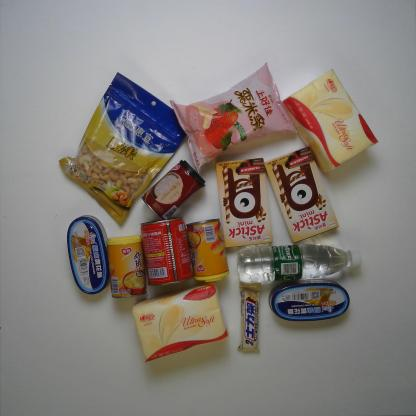Canned Food: (141, 158, 206, 221), (140, 216, 194, 286), (267, 278, 351, 323), (66, 214, 111, 295), (186, 218, 230, 283), (107, 234, 147, 299)
Chocolate: (237, 281, 262, 354)
Dessert: (264, 146, 340, 244), (215, 157, 274, 248)
Dried Fruit: (57, 71, 187, 226)
Drink: (236, 242, 362, 286)
Puffed Food: (169, 62, 298, 175)
Tissue: (282, 68, 379, 174), (132, 282, 230, 364)
